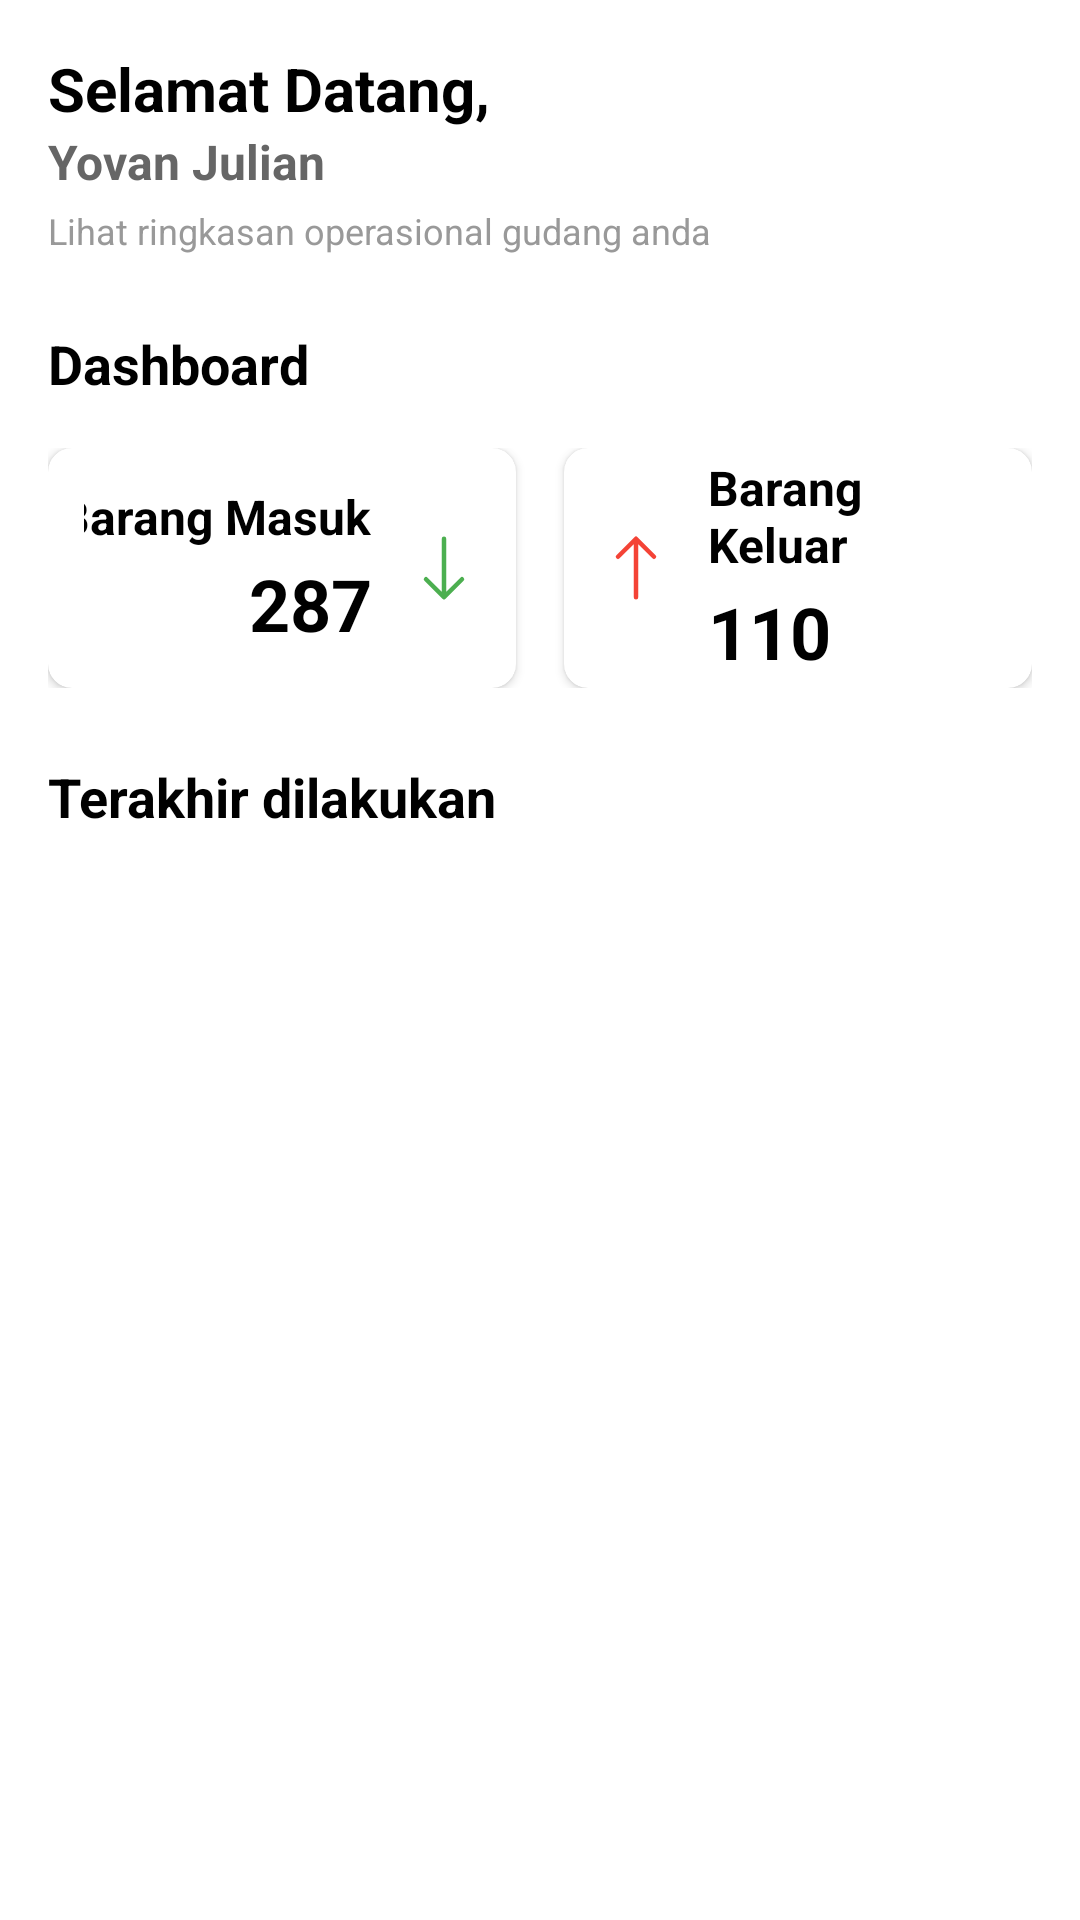

Screen size 1080w x 1920h. Icon name, then its box in pixels as rect(x1, y1, x2, y2):
Incoming Arrow: rect(423, 536, 465, 600)
Outgoing Arrow: rect(615, 536, 657, 600)
